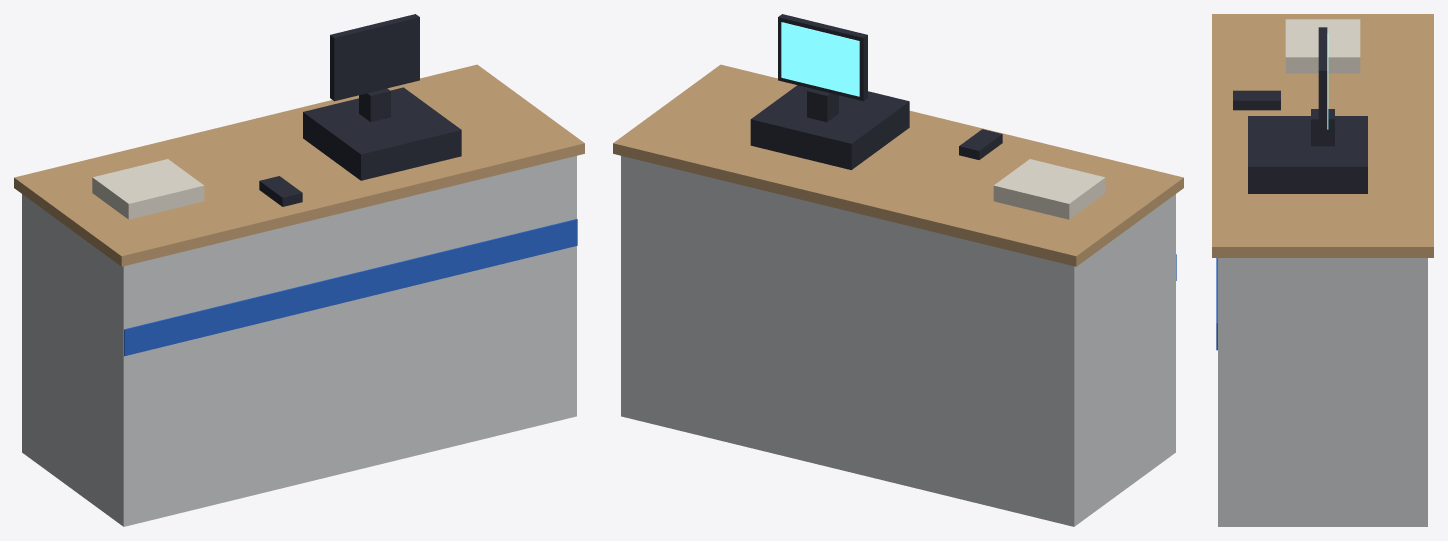
File: mal-013.glb
3 views of the same model, side by side, from view 1: azimuth 30°, elevation 25°; view 2: azimuth 150°, elevation 25°; view 3: azimuth 270°, elevation 25° (orthographic). The views are drawn at different scales.
Parts seen in each view (by area): view 1: counter, top, accent_band, cash_drawer, screen_housing, bag_stack, screen_stand, card_terminal; view 2: counter, top, cash_drawer, bag_stack, screen, screen_housing, screen_stand, card_terminal; view 3: counter, top, cash_drawer, bag_stack, screen_housing, card_terminal, screen_stand.
Part boxes in pixels (box(x1,y1,x2,y2)): counter: box(22, 156, 576, 526); top: box(14, 64, 584, 266); accent_band: box(124, 219, 577, 356); cash_drawer: box(303, 87, 461, 180); screen_housing: box(330, 14, 419, 101); bag_stack: box(92, 159, 204, 219); screen_stand: box(359, 88, 390, 122); card_terminal: box(259, 176, 302, 206); counter: box(621, 156, 1175, 526); top: box(613, 64, 1183, 266); cash_drawer: box(750, 85, 909, 169); bag_stack: box(993, 159, 1105, 219); screen: box(781, 22, 859, 96); screen_housing: box(778, 14, 867, 101); screen_stand: box(807, 88, 838, 122); card_terminal: box(959, 129, 1002, 159); counter: box(1218, 258, 1427, 526); top: box(1212, 14, 1433, 257); cash_drawer: box(1248, 116, 1367, 193); bag_stack: box(1285, 19, 1360, 73); screen_housing: box(1318, 27, 1327, 135); card_terminal: box(1233, 90, 1280, 110); screen_stand: box(1311, 109, 1334, 146).
Size of the model in its own units: 1.84 by 1.48 by 0.74.
